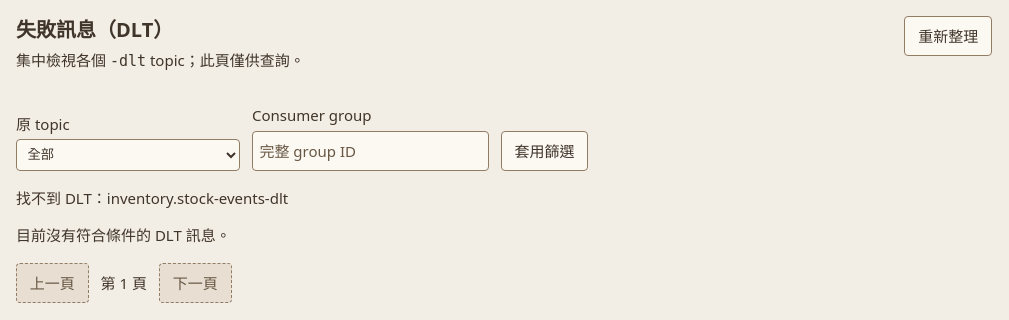
Test: shows empty results, missing topics and query failures
Expected: the text "目前沒有符合條件的 DLT 訊息。" is shown, [16,225,231,245]
Expected: the message shows "inventory.stock-events-dlt", [107,188,288,208]
Click the button "重新整理". click: (948, 36)
box: [904,16,992,56]
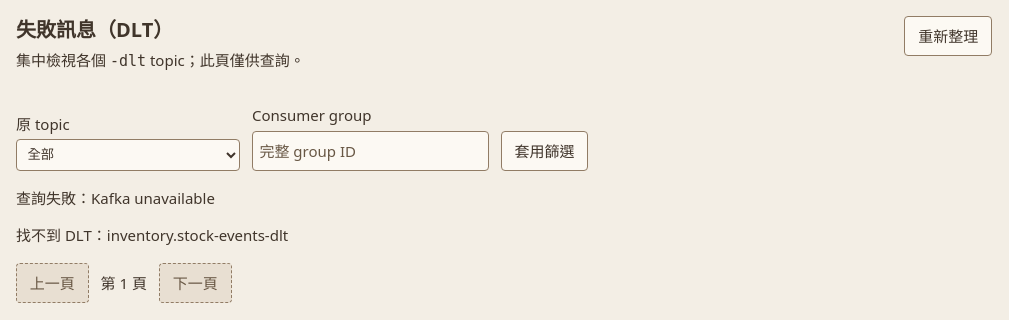
Expected: the text "查詢失敗：Kafka unavailable" is shown, [16,188,215,208]
